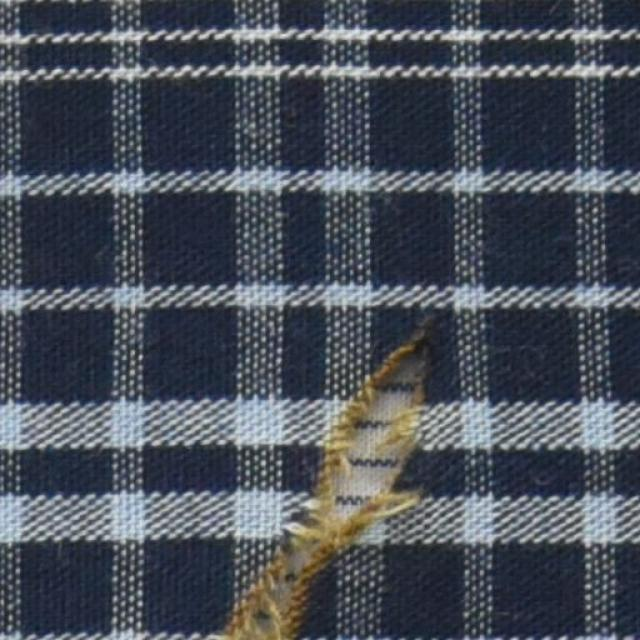Hole: (328, 342, 419, 506)
Stain: (216, 353, 396, 639), (273, 389, 425, 636)
